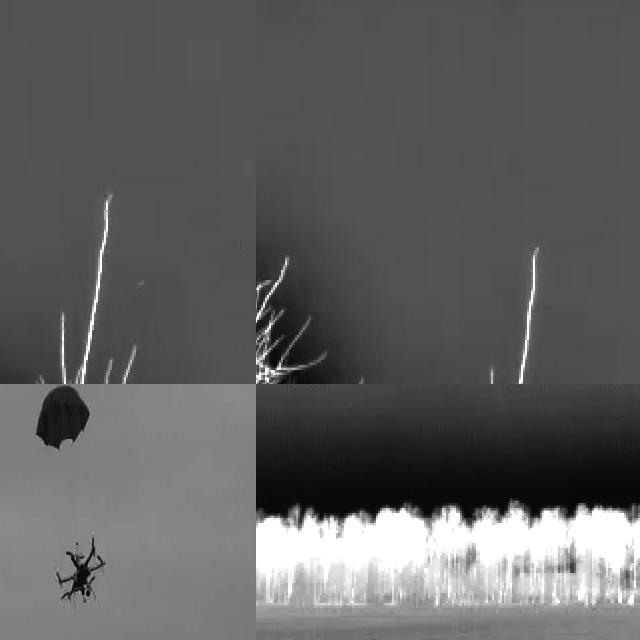0: (132, 275, 158, 293)
drone: (51, 532, 107, 611)
